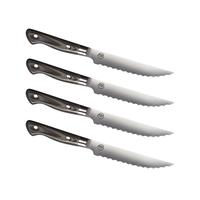knife: (16, 24, 178, 82), (15, 86, 184, 137), (19, 56, 181, 109), (23, 118, 174, 171)
